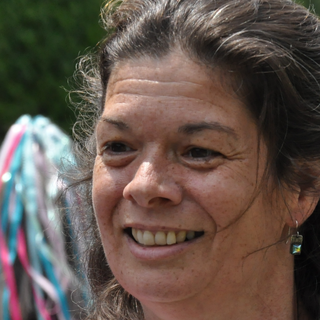eye: (175, 141, 229, 166), (99, 135, 141, 161)
